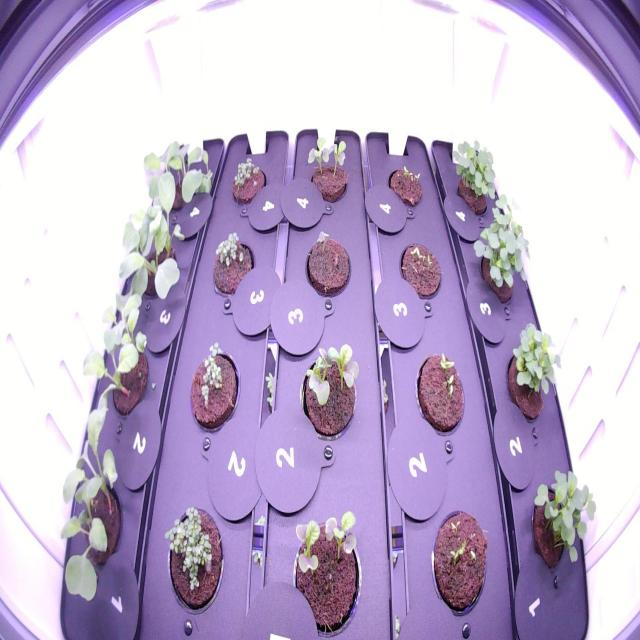germination: (282, 508, 364, 640), (522, 456, 606, 584), (160, 494, 232, 621), (468, 187, 536, 307), (426, 502, 492, 622), (498, 313, 566, 426), (295, 338, 361, 451), (182, 336, 245, 442), (413, 346, 471, 448), (444, 130, 506, 220), (303, 126, 356, 210), (302, 225, 355, 306), (207, 226, 257, 304), (394, 236, 445, 308), (227, 150, 268, 212), (383, 162, 427, 216)
